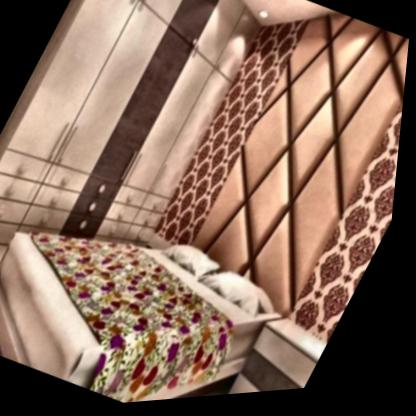Bed: (0, 164, 307, 416)
Closet: (0, 0, 184, 272)
Wall Panel: (156, 22, 410, 350)
